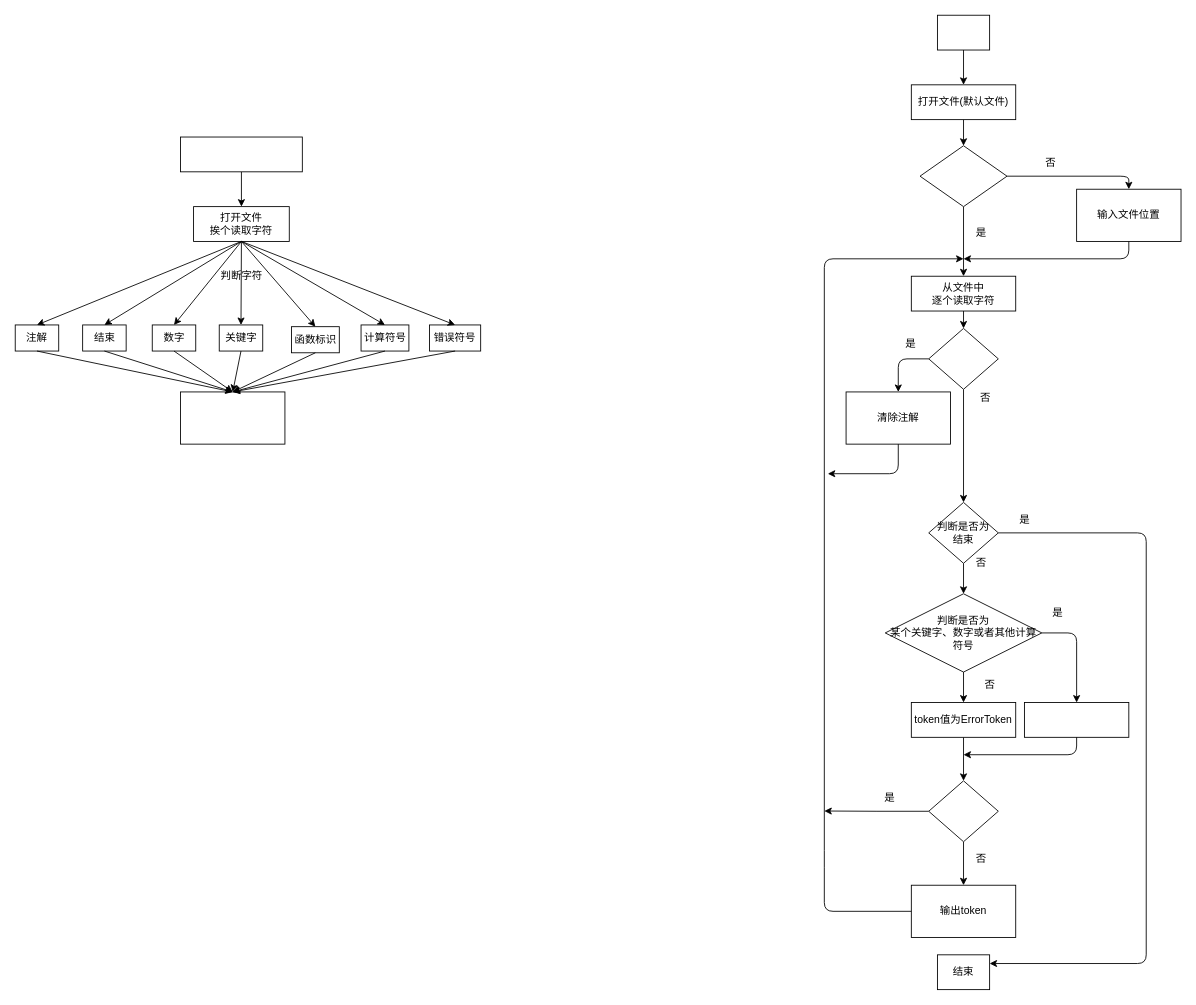
Some shapes in this 1196 by 1005 pixel diagram are drawn without their labels. Each missing label, with the centre of its shape:
判断是否为 注释: (x=963, y=358)
判断是否为 错误Token: (x=963, y=811)
将token设置为 对应的Token值: (x=1076, y=719)
开始: (x=963, y=32)
打开是否 成功: (x=963, y=176)
词法分析器: (x=241, y=154)
输出对应的Token: (x=232, y=417)
